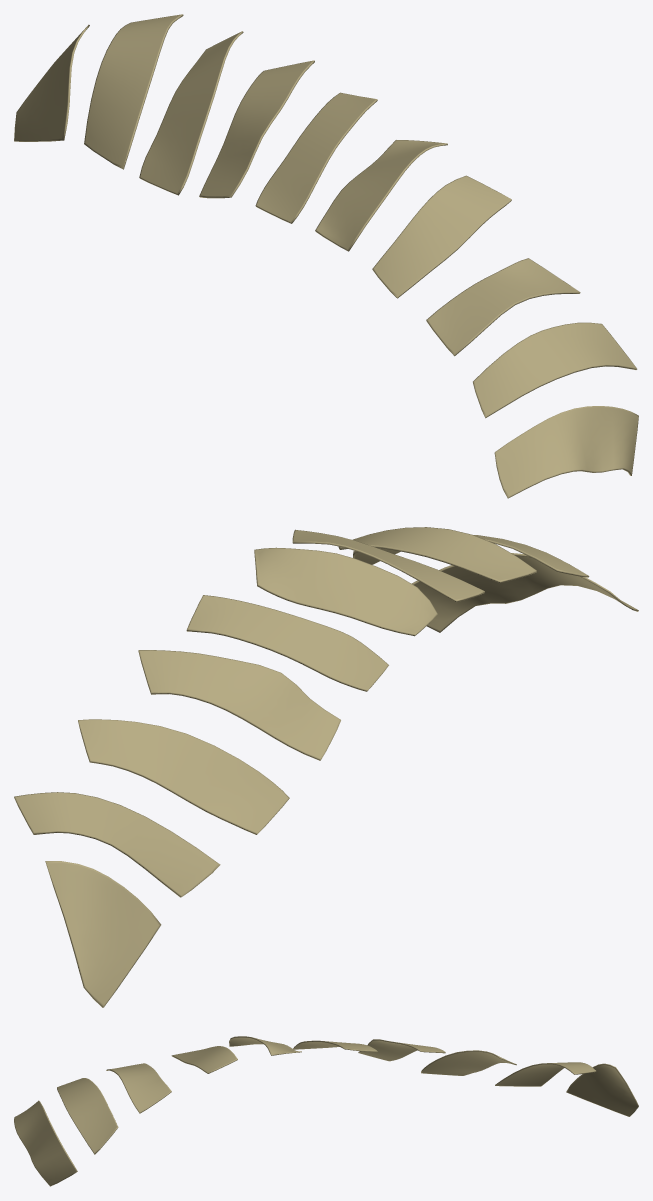
The picture shows the model from 3 angles, top to bottom: view 1: azimuth 30°, elevation 25°; view 2: azimuth 150°, elevation 25°; view 3: azimuth 270°, elevation 25°; orthographic projection. The views are drawn at different scales.
Visible parts, largest first — view 1: 左侧肋间内膜; view 2: 左侧肋间内膜; view 3: 左侧肋间内膜.
Boxes of the visible parts, x1=… form: 左侧肋间内膜: x1=14, y1=14, x2=638, y2=498; 左侧肋间内膜: x1=14, y1=527, x2=638, y2=1007; 左侧肋间内膜: x1=14, y1=1036, x2=638, y2=1186.
Bounding box in the file's own units: 0.0984 × 0.0965 × 0.4136.
